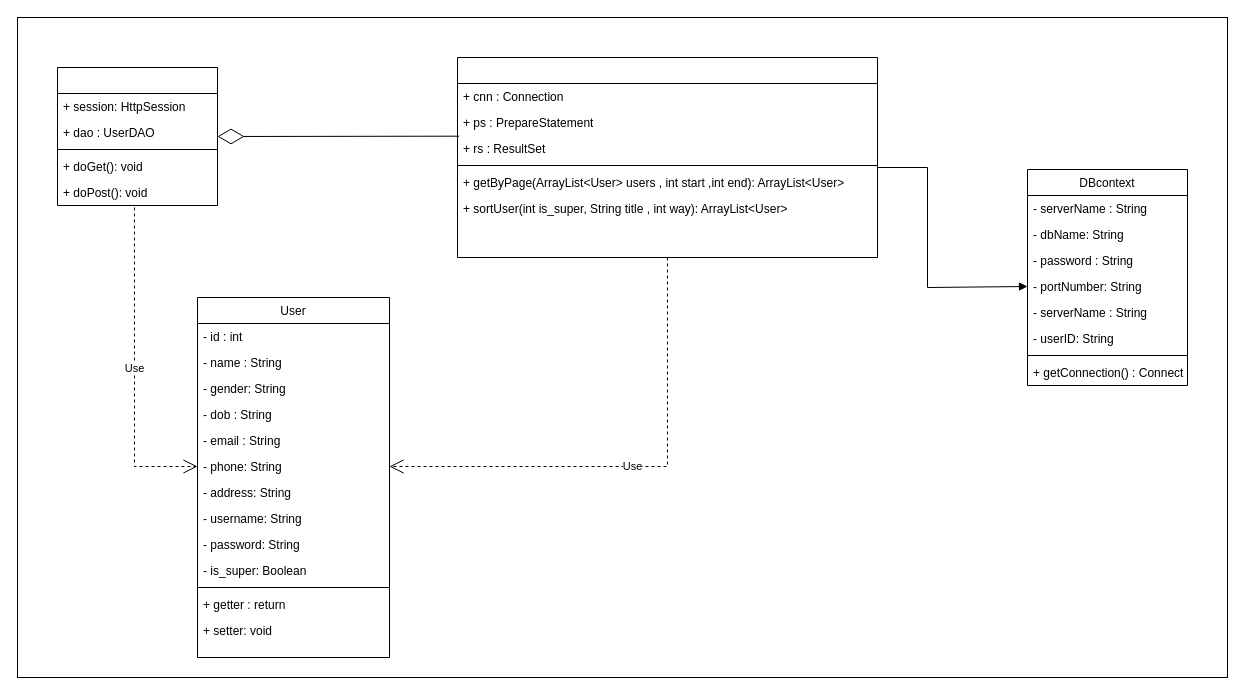
This 1245x695 diagram has some shape labels left out. The shapes that lost their labels are listed below. From the top down, each one's box as (x1, y1, x2, y2) in pixels, then its label:
(56, 66, 218, 206): LoadUser
(456, 56, 878, 258): UserDAO
